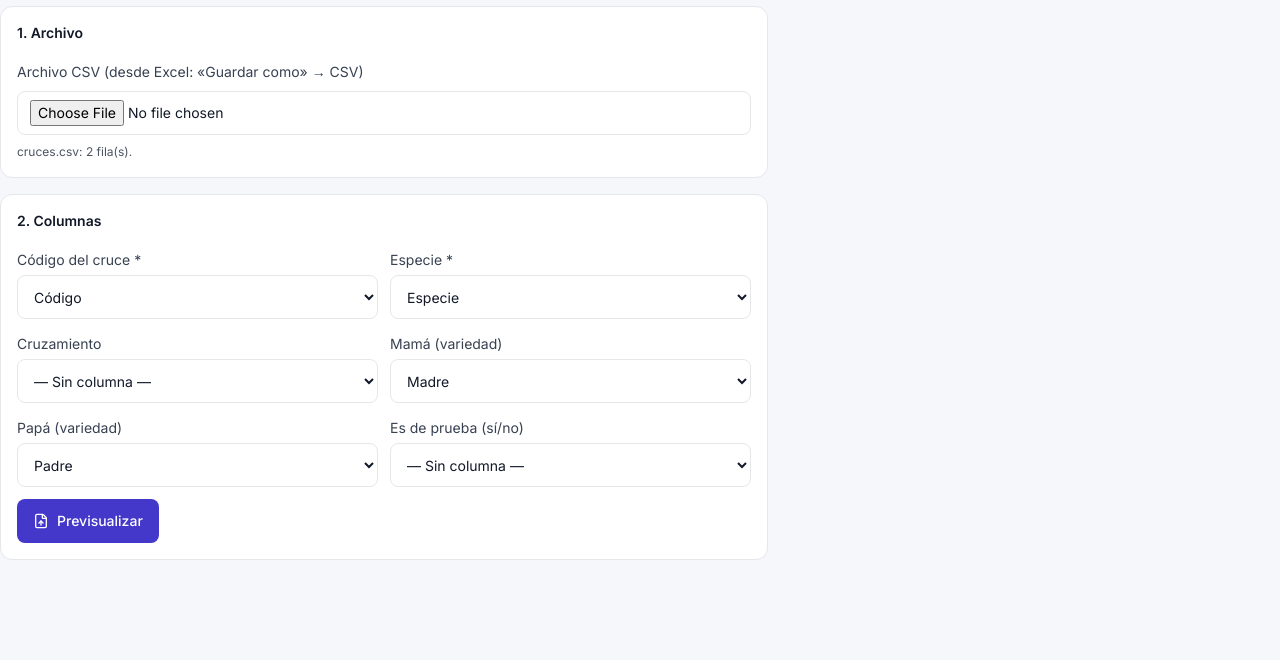
it: ImportarCrucesPage › propone las columnas, previsualiza con las filas armadas y muestra los errores sin permitir confirmar
Earlier steps of the test are not shown.
Check: the text "cruces.csv: 2 fila(s)." is shown, box [17,144,132,159]
Click the button "Previsualizar": (88, 521) [17,499,159,543]
(page scrolled)
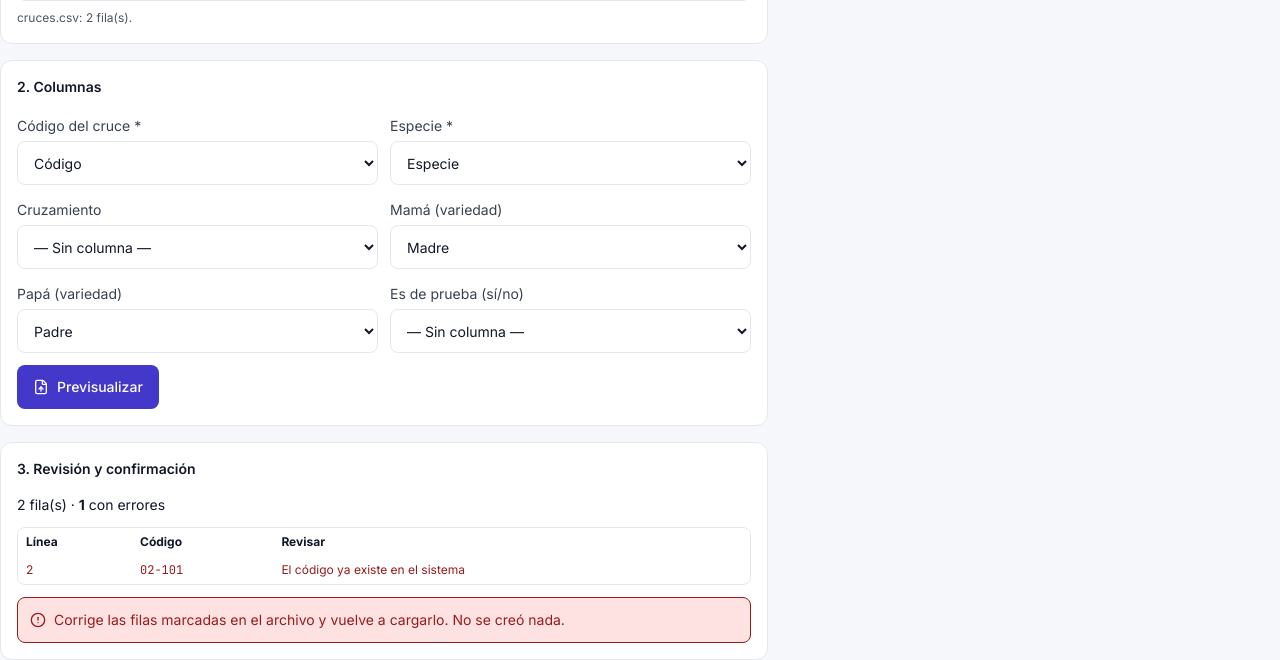
Check: the text "El código ya existe en el sistema" is shown, box [273,556,750,584]
Check: the text "Corrige las filas marcadas" is shown, box [54,611,565,628]
